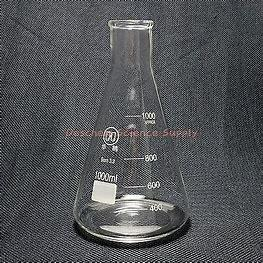Titrarion: (63, 14, 195, 246)
